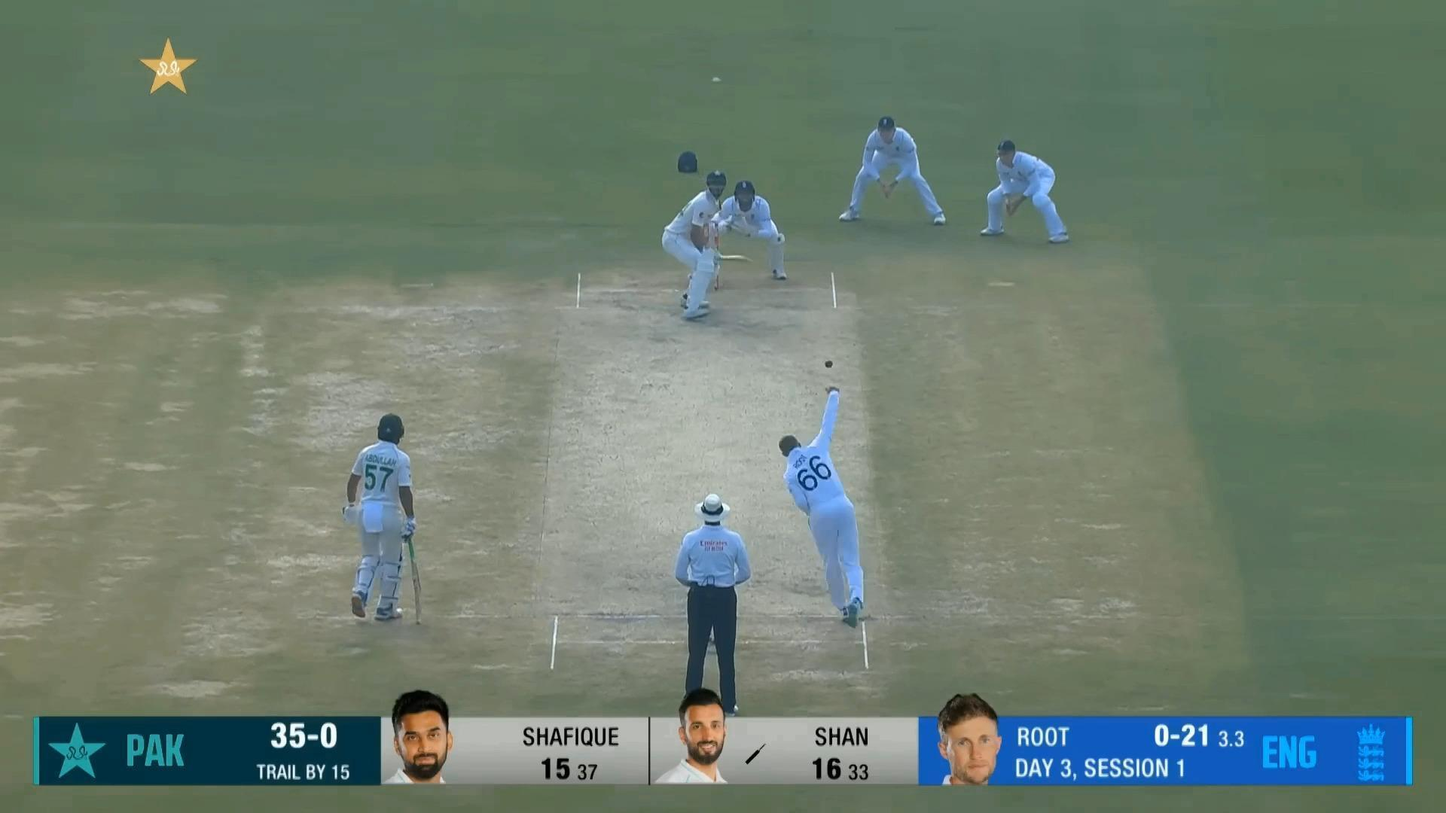BM 1: (661, 170, 755, 321)
BO: (776, 383, 867, 627)
